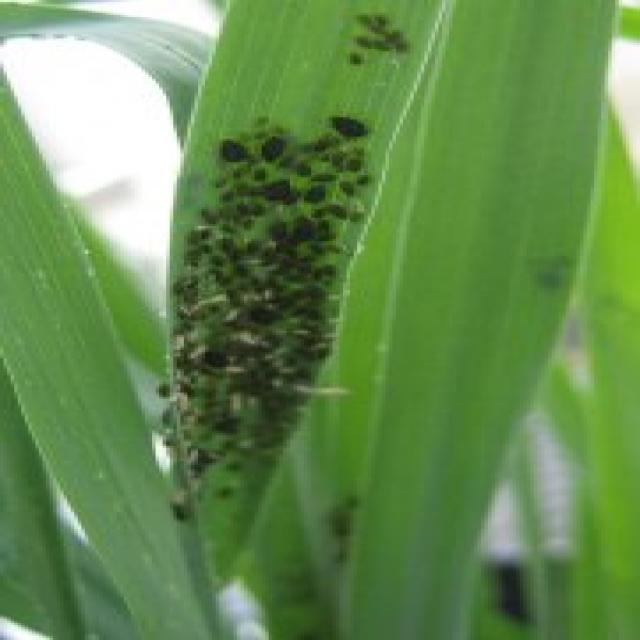Aphid-Grouped-: (127, 111, 418, 522)
